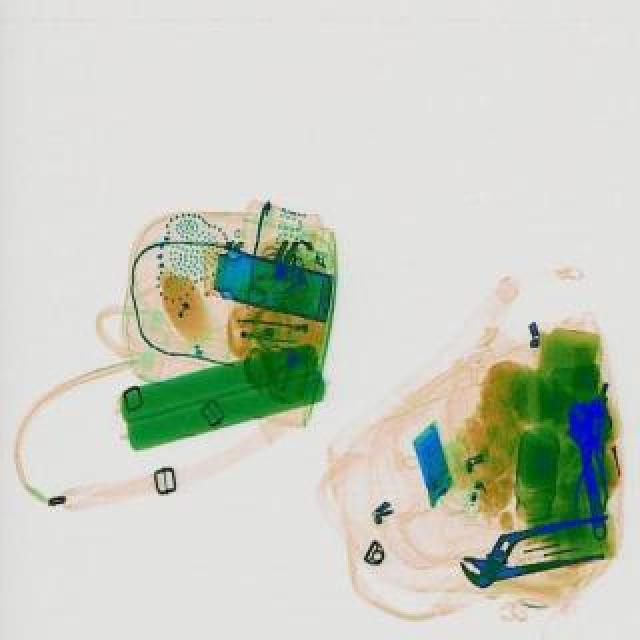scissors: (562, 400, 618, 544)
